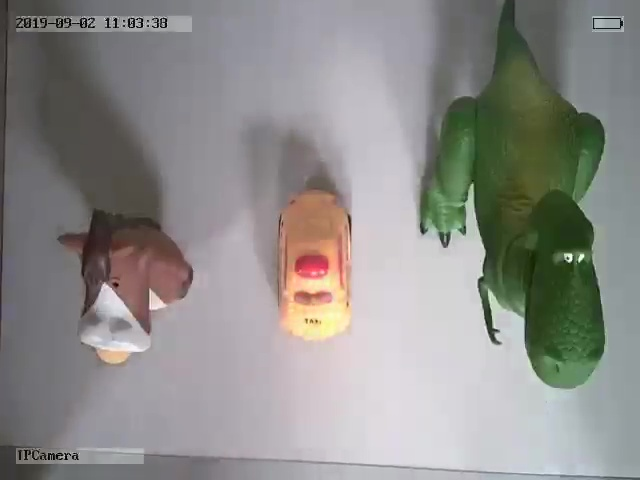car: (273, 187, 358, 343)
horse: (60, 208, 194, 367)
rex: (419, 7, 607, 392)
